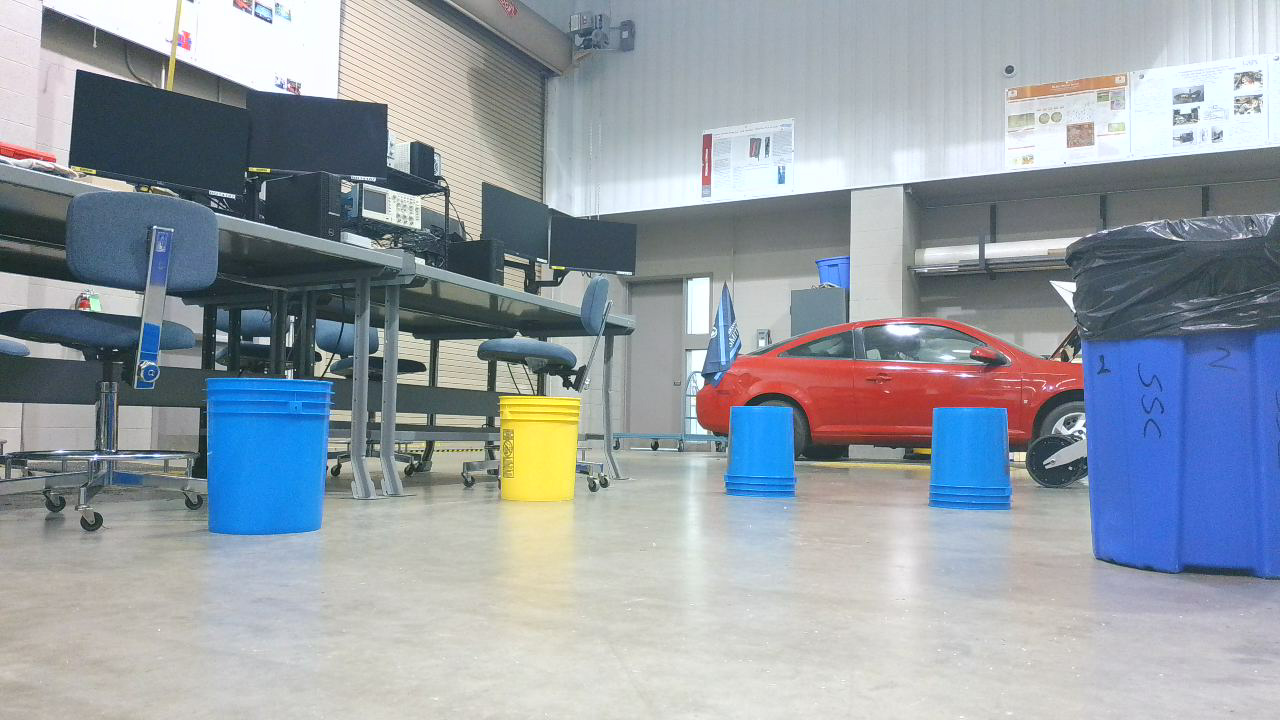blue_bucket: (204, 377, 344, 544), (930, 406, 1021, 519), (724, 408, 806, 505)
yellow_bucket: (497, 397, 590, 509)
